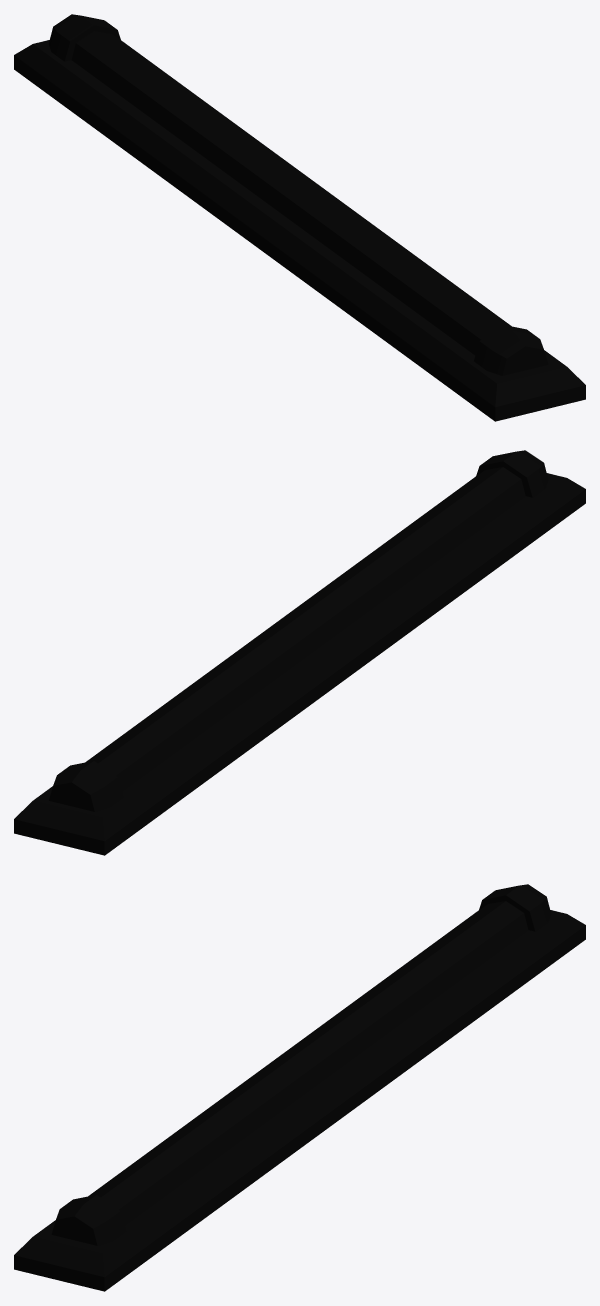
File: space_SM_Prop_Light_Small_04.gltf
3 renders of one model, top to bottom at view 1: azimuth 30°, elevation 25°; view 2: azimuth 150°, elevation 25°; view 3: azimuth 330°, elevation 25°, orthographic.
Visible parts, largest first — view 1: SM_Prop_Light_Small_04; view 2: SM_Prop_Light_Small_04; view 3: SM_Prop_Light_Small_04.
Boxes of the visible parts, left/top/right/bottom form: SM_Prop_Light_Small_04: left=14, top=14, right=585, bottom=421; SM_Prop_Light_Small_04: left=14, top=450, right=585, bottom=855; SM_Prop_Light_Small_04: left=14, top=884, right=585, bottom=1291.
Size of the model in its own units: 0.143 by 0.088 by 1.31.
Materials: 1 (1 with a texture image).
